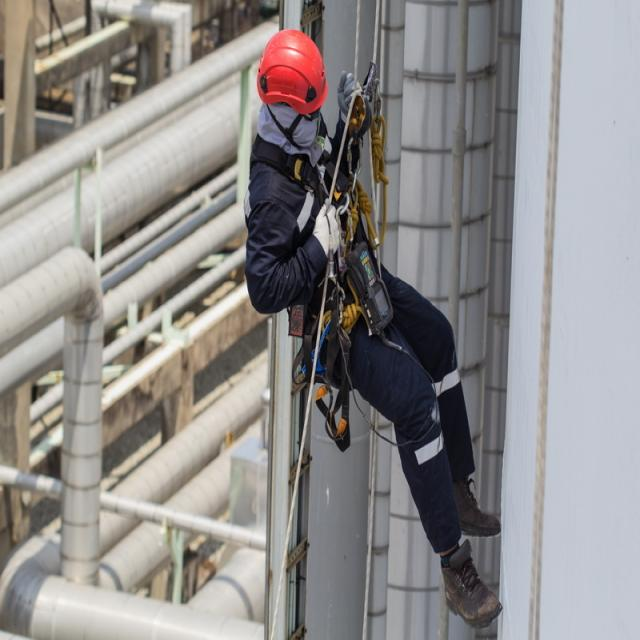vest: (239, 151, 479, 561)
